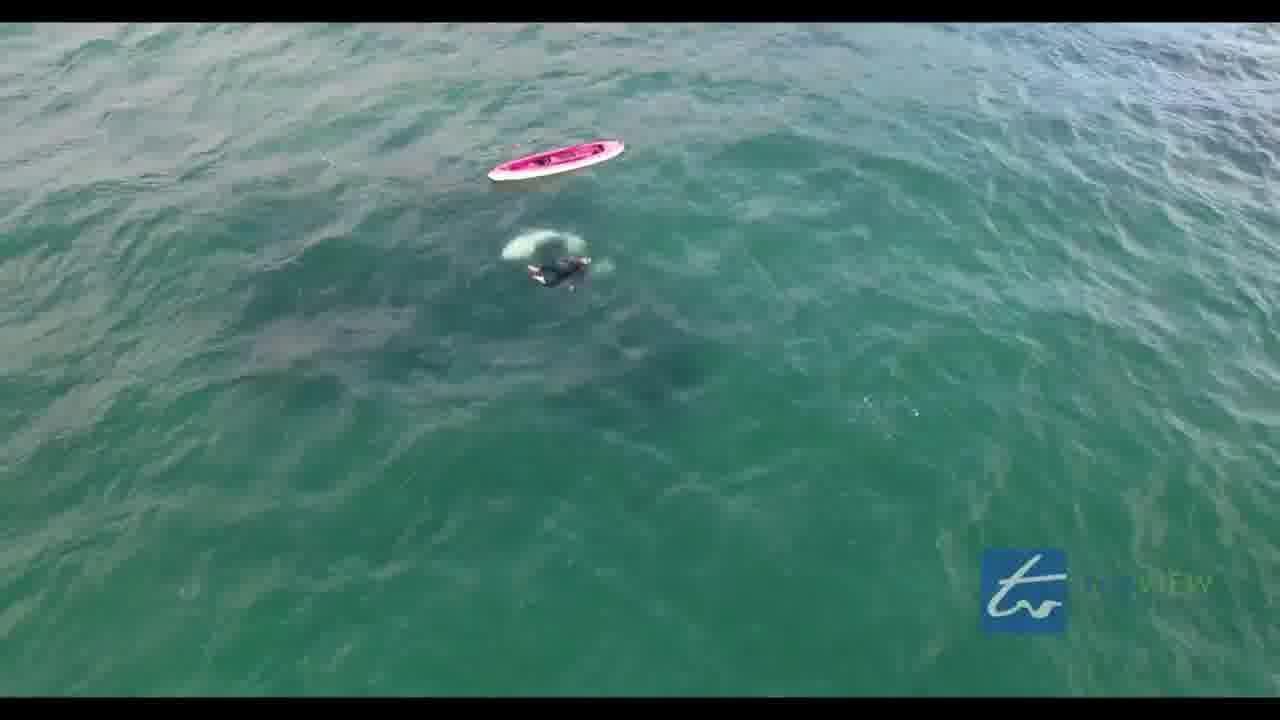swimmer: (519, 254, 600, 291)
